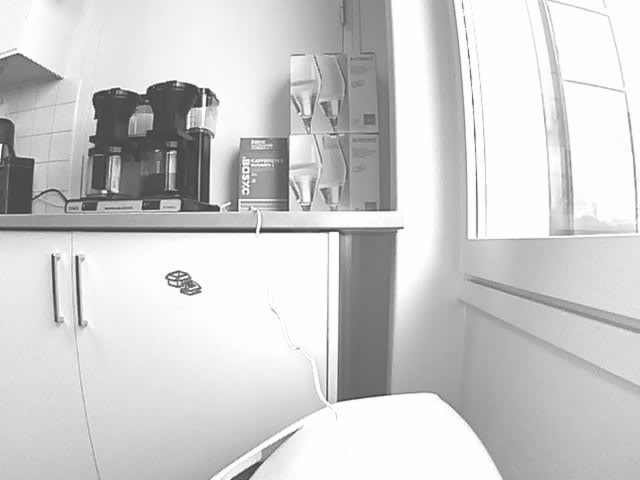empty coffee: (88, 147, 136, 196)
not empty coffee: (145, 142, 190, 194)
